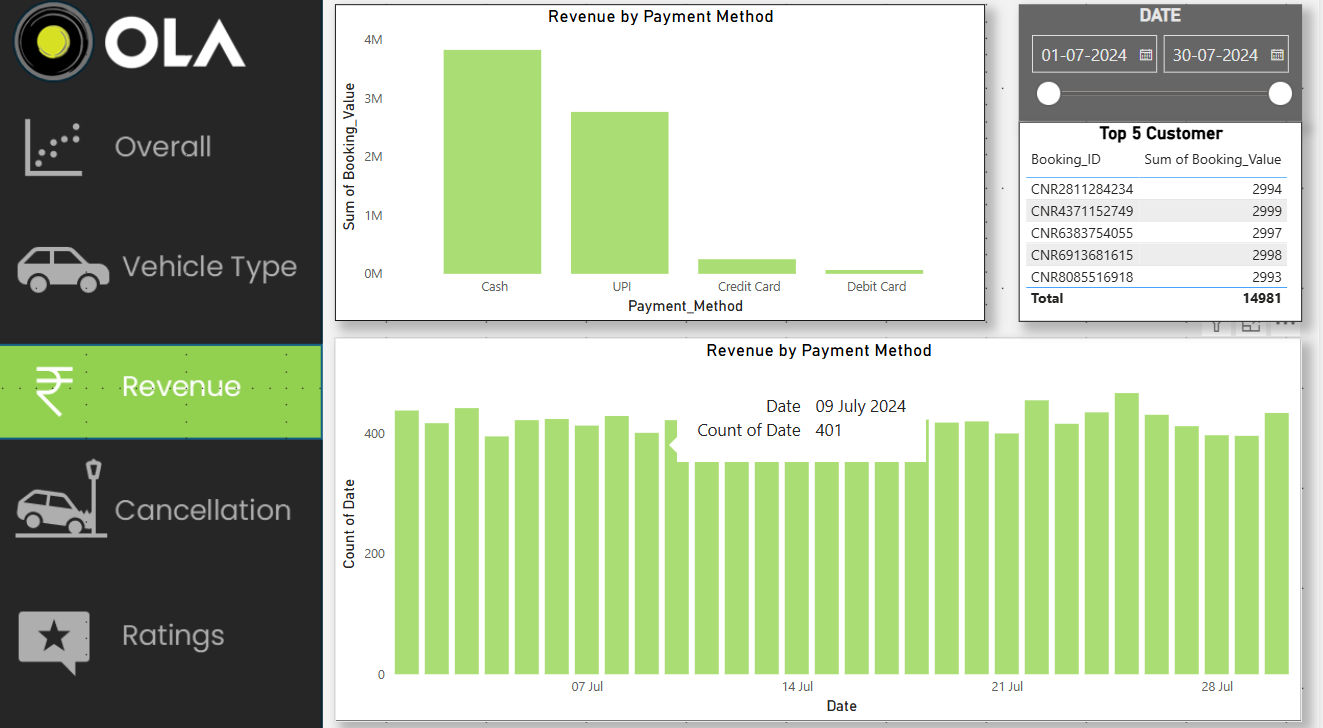

The page's visual inventory and layout, read from the dashboard file:
{"tool":"powerbi","page":{"name":"Revenue","canvas":[1280,720],"ordinal":2},"visuals":[{"type":"actionButton","box":[0,112,320,96],"z":0},{"type":"actionButton","box":[0,224,320,96],"z":1000},{"type":"actionButton","box":[0,448,320,96],"z":2000},{"type":"actionButton","box":[0,576,320,96],"z":3000},{"type":"columnChart","title":"Revenue by Payment Method","fields":{"Category":["Booking1.Payment_Method"],"Y":["Sum(Booking1.Booking_Value)"]},"box":[336,16,624,304],"z":4000},{"type":"columnChart","title":"Revenue by Payment Method","fields":{"Y":["CountNonNull(Booking1.Date)"],"Category":["Booking1.Date"]},"box":[336,336,928,368],"z":5000},{"type":"slicer","title":"DATE","fields":{"Values":["Booking1.Date"]},"box":[992,16,272,112],"z":6000},{"type":"tableEx","title":"Top 5 Customer","fields":{"Values":["Booking1.Booking_ID","Sum(Booking1.Booking_Value)"]},"box":[992,128,272,192],"z":7000}]}

Visuals, with their boxes in screenshot pixels (x1, y1, x2, y2), scaled from the page's 1280x720 canvas onto the 1323x728 screenshot:
actionButton: bbox(0, 113, 331, 210)
actionButton: bbox(0, 226, 331, 324)
actionButton: bbox(0, 453, 331, 550)
actionButton: bbox(0, 582, 331, 679)
"Revenue by Payment Method" columnChart: bbox(347, 16, 992, 324)
"Revenue by Payment Method" columnChart: bbox(347, 340, 1306, 712)
"DATE" slicer: bbox(1025, 16, 1306, 129)
"Top 5 Customer" tableEx: bbox(1025, 129, 1306, 324)
